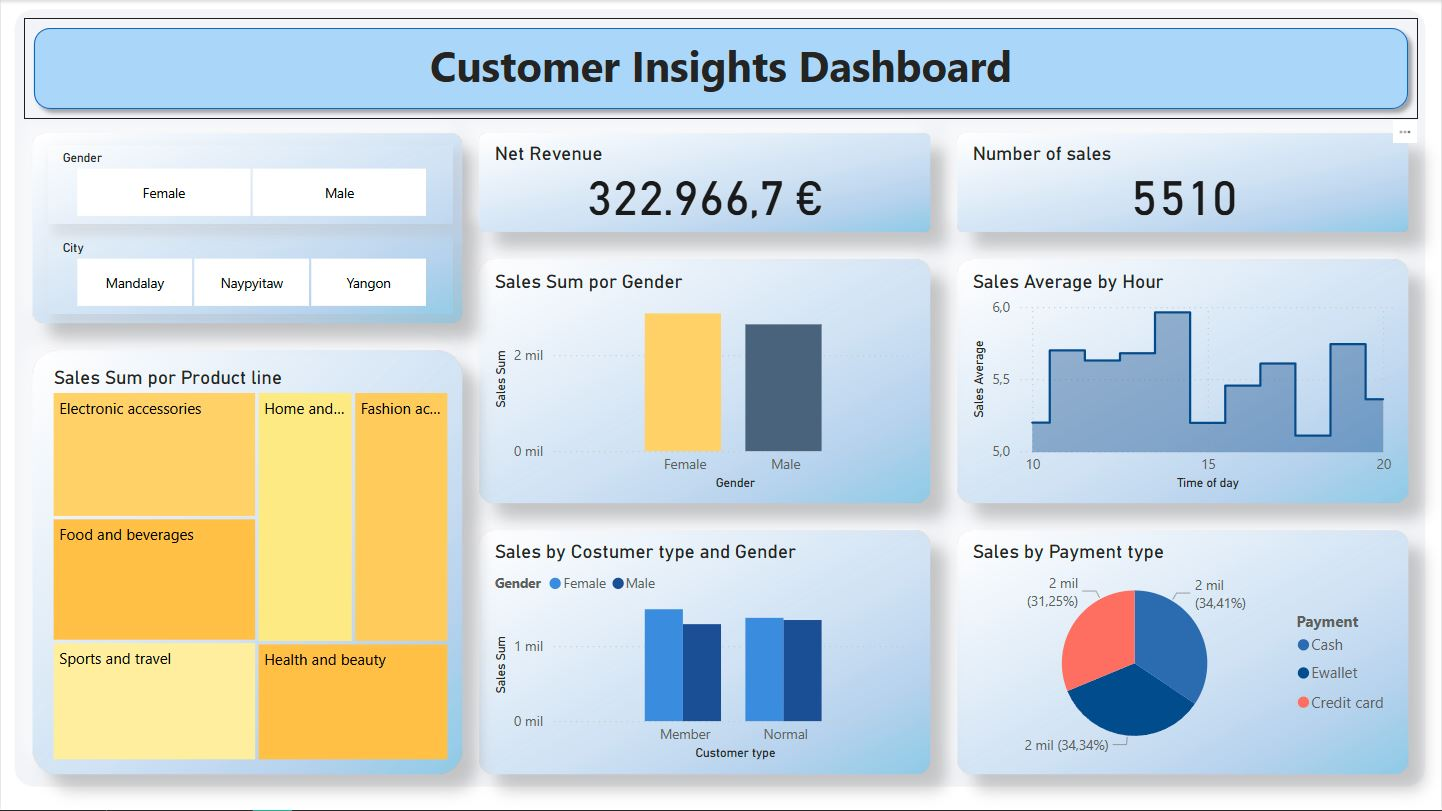

What the dashboard file says about the page in this screenshot:
{"tool":"powerbi","page":{"name":"Costumer Analytics","canvas":[1280,720],"ordinal":0},"visuals":[{"type":"pieChart","title":"Sales by Payment type","fields":{"Category":["supermarket_sales.Payment"],"Y":["M.Sales Sum"]},"box":[858.7,480,384.9,200],"z":0},{"type":"treemap","fields":{"Details":["supermarket_sales.Product line"],"Values":["M.Sales Sum"]},"box":[41.8,325.3,360,354.7],"z":1000},{"type":"slicer","fields":{"Values":["supermarket_sales.Gender"]},"box":[41.8,128.9,360,70.2],"z":2000},{"type":"slicer","fields":{"Values":["supermarket_sales.City"]},"box":[41.8,208.9,360,70.2],"z":3000},{"type":"columnChart","fields":{"Category":["supermarket_sales.Gender"],"Y":["M.Sales Sum"]},"box":[433.8,240,384.9,200],"z":4000},{"type":"card","title":"Net Revenue","fields":{"Values":["Sum(supermarket_sales.Total)"]},"box":[433.8,126.2,383.1,72.9],"z":5000},{"type":"card","title":"Number of sales","fields":{"Values":["M.Sales Sum"]},"box":[858.7,126.2,384.9,72.9],"z":6000},{"type":"clusteredColumnChart","title":"Sales by Costumer type and Gender","fields":{"Category":["supermarket_sales.Customer type"],"Series":["supermarket_sales.Gender"],"Y":["M.Sales Sum"]},"box":[433.8,480,384.9,200],"z":7000},{"type":"stackedAreaChart","title":"Sales Average by Hour","fields":{"Category":["supermarket_sales.Hour"],"Y":["M.Sales Quantity"]},"box":[858.7,240,384.9,200],"z":8000},{"type":"shape","box":[20.4,16,1239.1,89.8],"z":9000},{"type":"textbox","box":[89.8,27.6,1100.4,66.7],"z":10000}]}

Visuals, with their boxes in screenshot pixels (x1, y1, x2, y2), scaled from the page's 1280x720 canvas onto the 1442x811 screenshot:
"Sales by Payment type" pieChart: 967:541:1401:766
treemap - supermarket_sales.Product line x M.Sales Sum: 47:366:453:766
slicer - supermarket_sales.Gender: 47:145:453:224
slicer - supermarket_sales.City: 47:235:453:314
columnChart - supermarket_sales.Gender x M.Sales Sum: 489:270:922:496
"Net Revenue" card: 489:142:920:224
"Number of sales" card: 967:142:1401:224
"Sales by Costumer type and Gender" clusteredColumnChart: 489:541:922:766
"Sales Average by Hour" stackedAreaChart: 967:270:1401:496
shape: 23:18:1419:119
textbox: 101:31:1341:106
